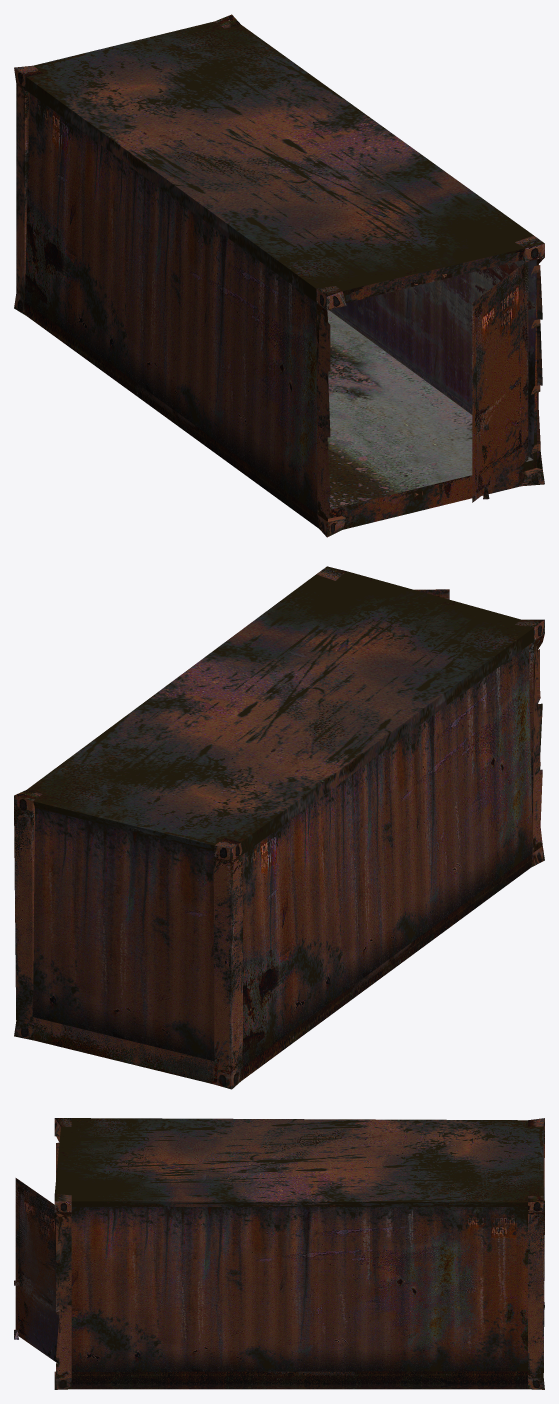
Rendered from container_01.FBX.
3 views of the same model, one above another, from view 1: azimuth 30°, elevation 25°; view 2: azimuth 150°, elevation 25°; view 3: azimuth 270°, elevation 25° (orthographic). The views are drawn at different scales.
Visible parts, largest first — view 1: container, door; view 2: container; view 3: container, door.
Part boxes in pixels (<box>): container: <box>14,14,544,537</box>; door: <box>472,261,540,502</box>; container: <box>14,566,544,1089</box>; container: <box>54,1118,544,1389</box>; door: <box>14,1178,59,1363</box>.
Size of the model in its own units: 96.81 by 102 by 261.
